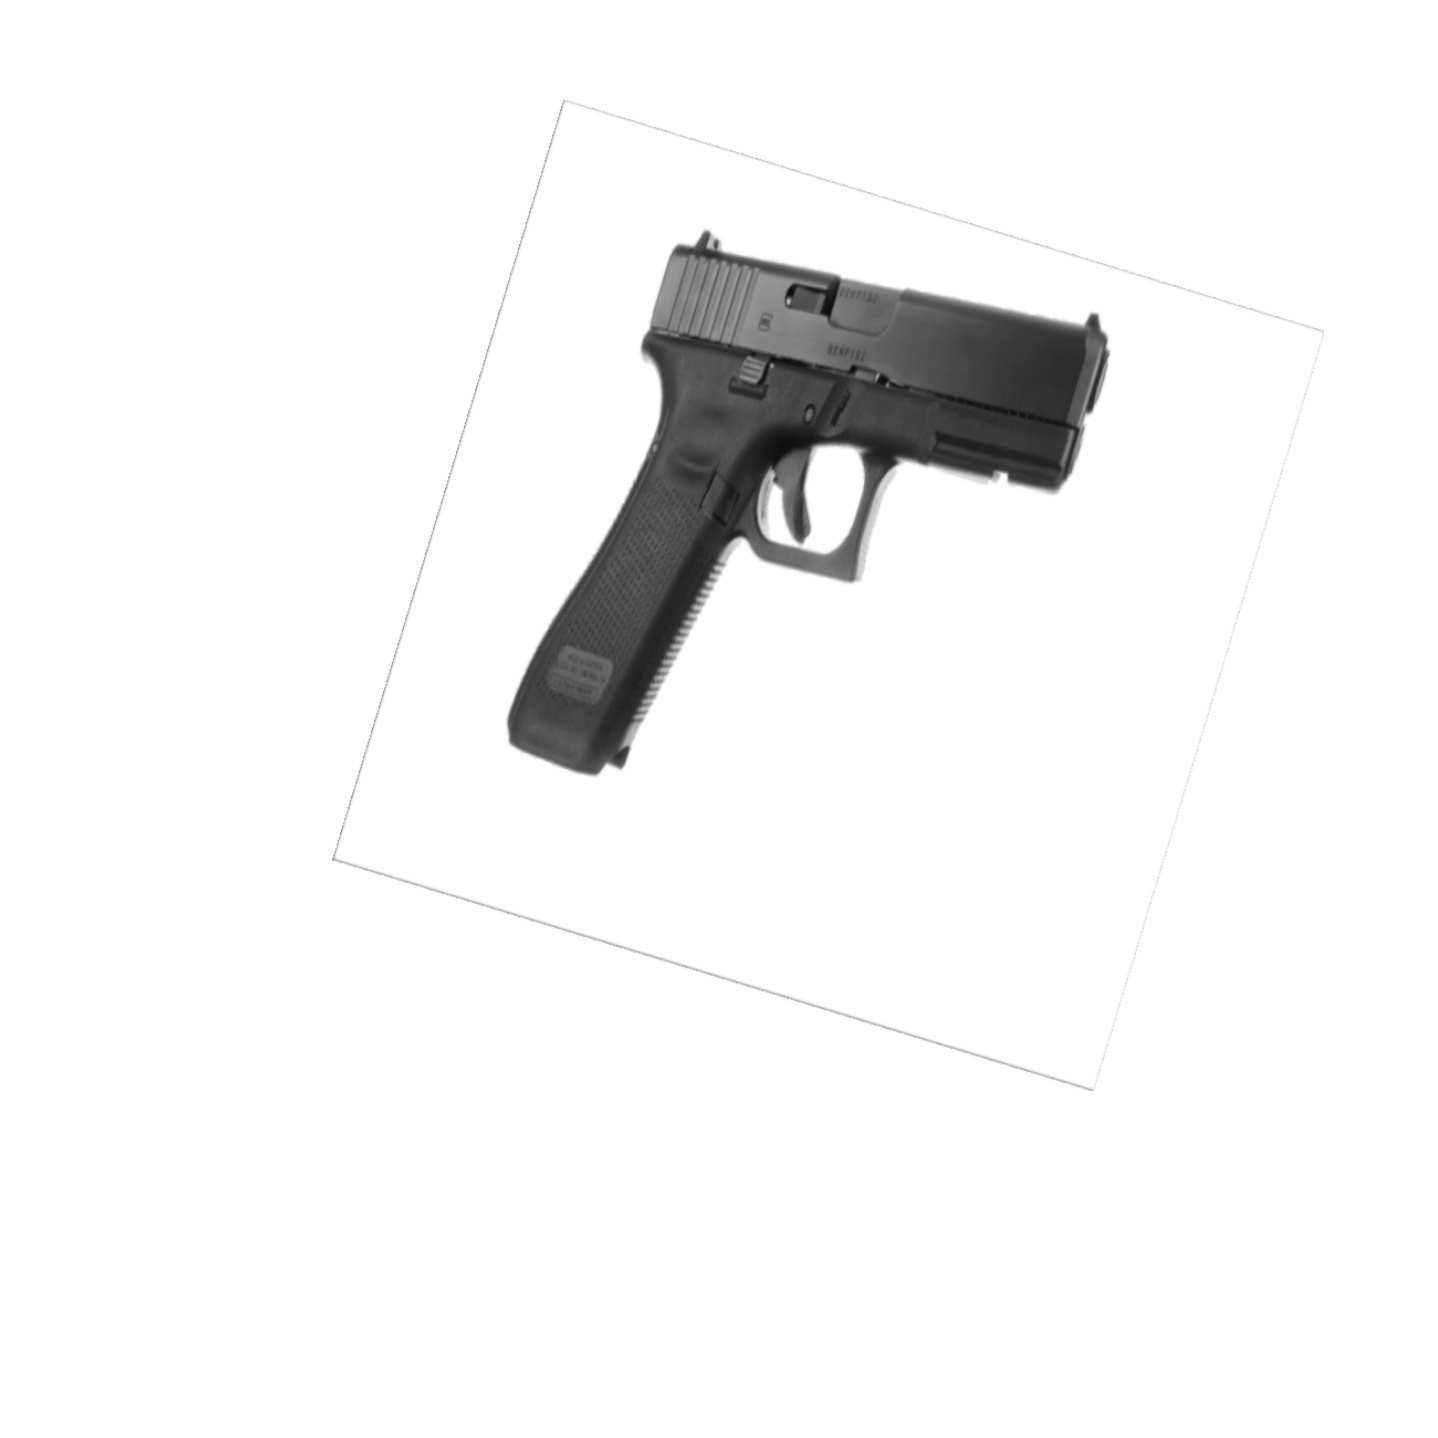gun: (485, 226, 1146, 786)
